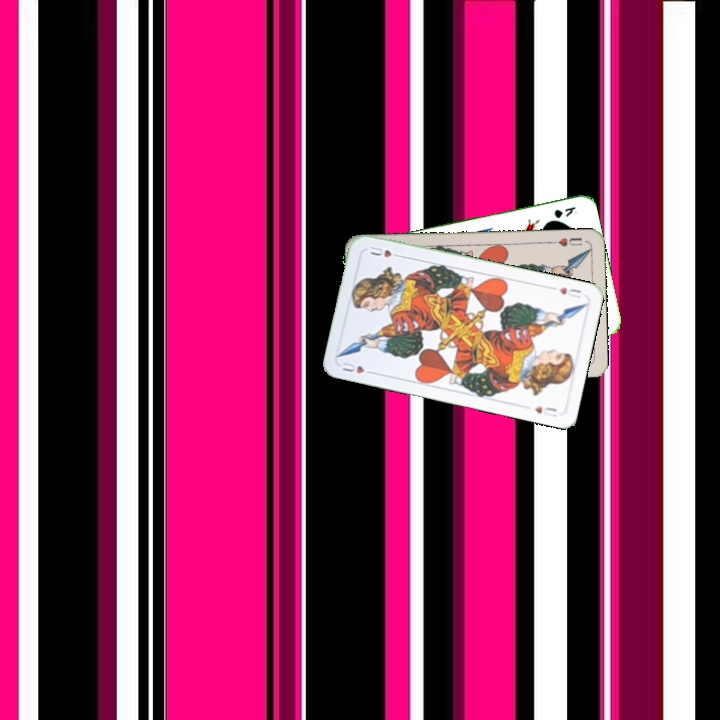GK: (550, 202, 579, 220)
HU: (338, 358, 377, 377), (547, 283, 584, 301), (548, 233, 585, 249)
